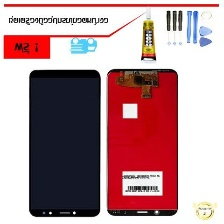phone: (103, 63, 180, 217), (25, 66, 102, 218)
